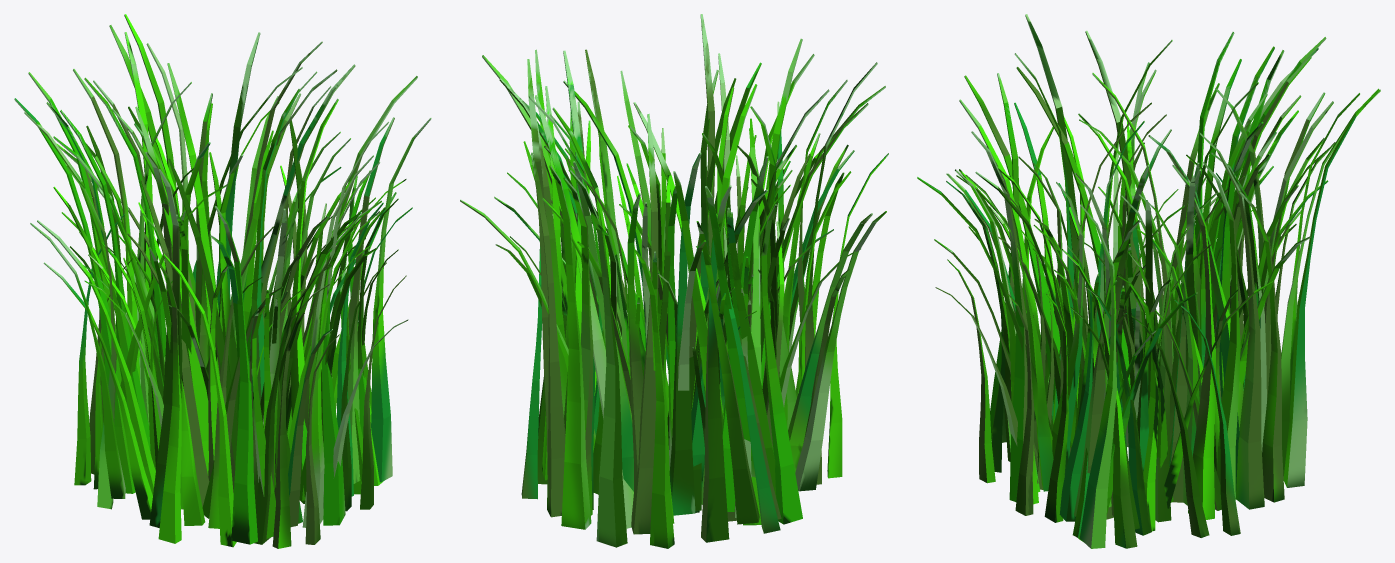
The model's file is 2112218_Grass_4.fbx.
The picture shows the model from 3 angles, left to right: view 1: azimuth 30°, elevation 25°; view 2: azimuth 150°, elevation 25°; view 3: azimuth 270°, elevation 25°; orthographic projection. The views are drawn at different scales.
Parts seen in each view (by area): view 1: grass.001; view 2: grass.001; view 3: grass.001.
Part boxes in pixels (<box>): grass.001: <box>14,14,431,548</box>; grass.001: <box>460,14,888,548</box>; grass.001: <box>917,14,1380,548</box>.
Size of the model in its own units: 5.26 by 5.28 by 5.36.
Materials: 1 (1 with a texture image).
